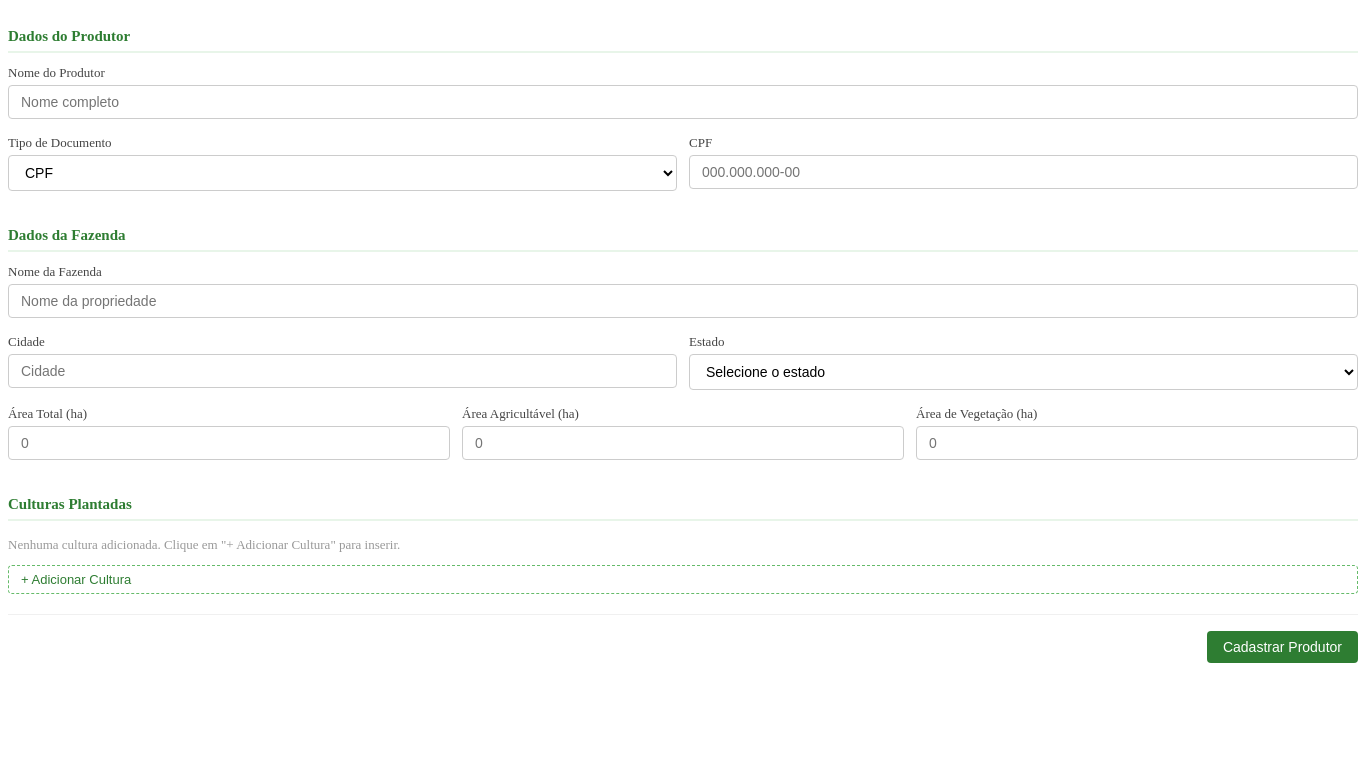
Test: ProducerForm — novo formulário unificado › Validações da fazenda › exibe erros quando campos da fazenda estão vazios
Type "João" into the field labelled "Nome do Produtor".
click(683, 102); type("João")  # box [8,85,1358,119]
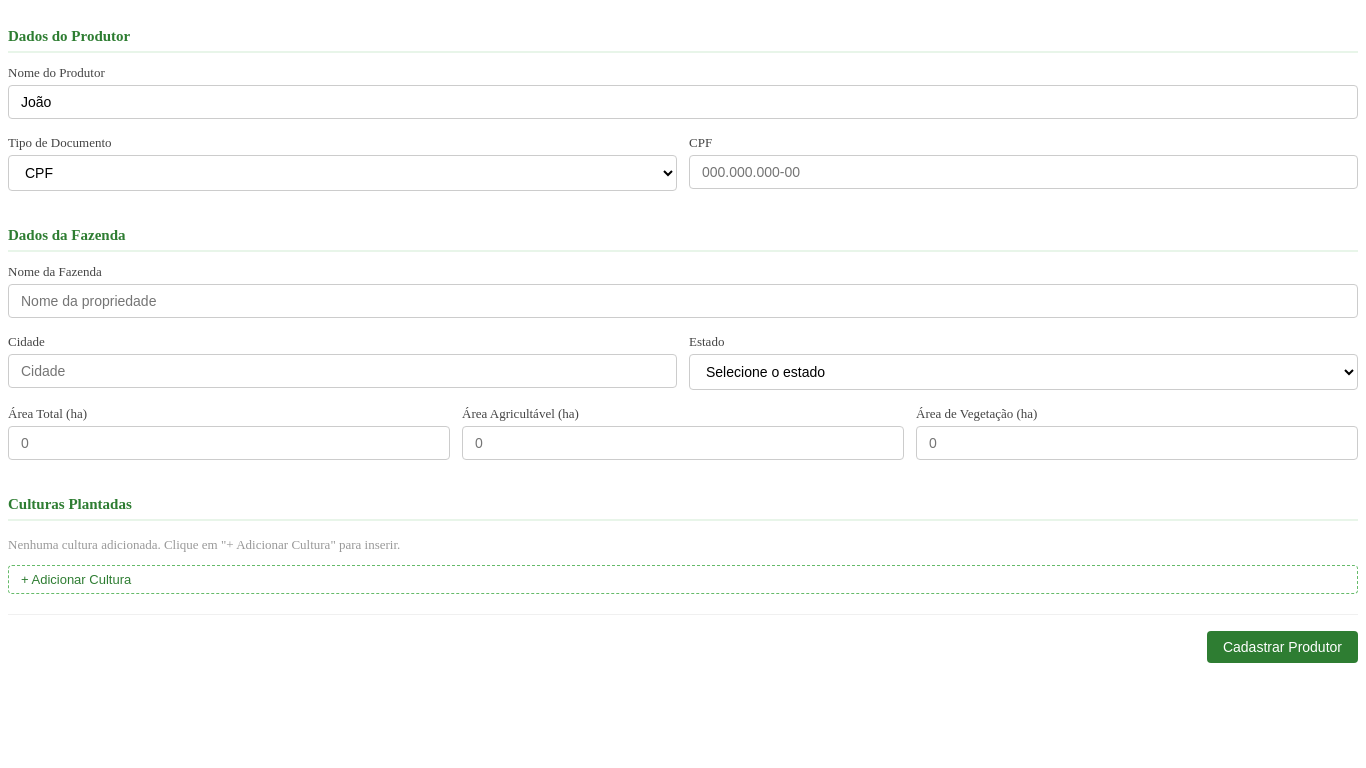
Type "529.982.247-25" into the field labelled "CPF".
click(1024, 172); type("529.982.247-25")  # box [689,155,1358,189]
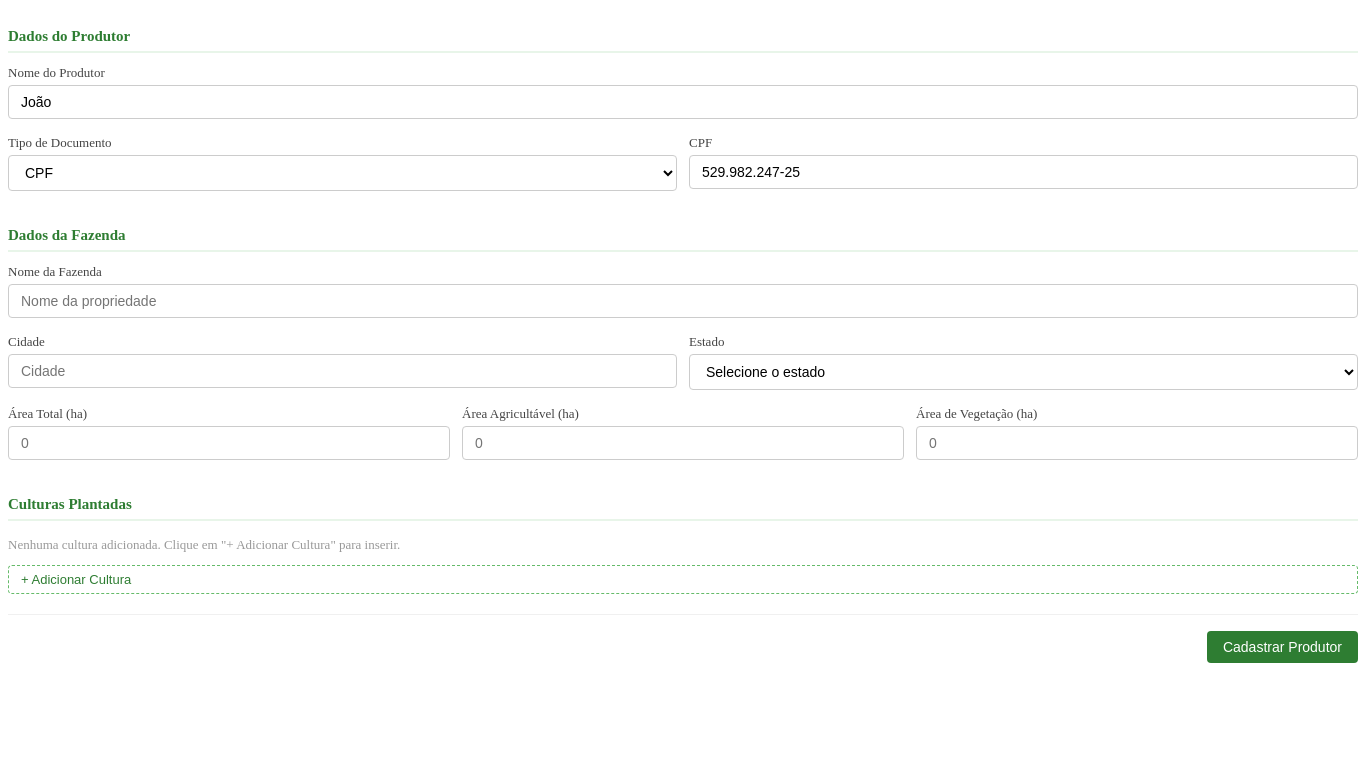
Click the button "Cadastrar Produtor".
click(1282, 647)  # box [1207,631,1358,663]
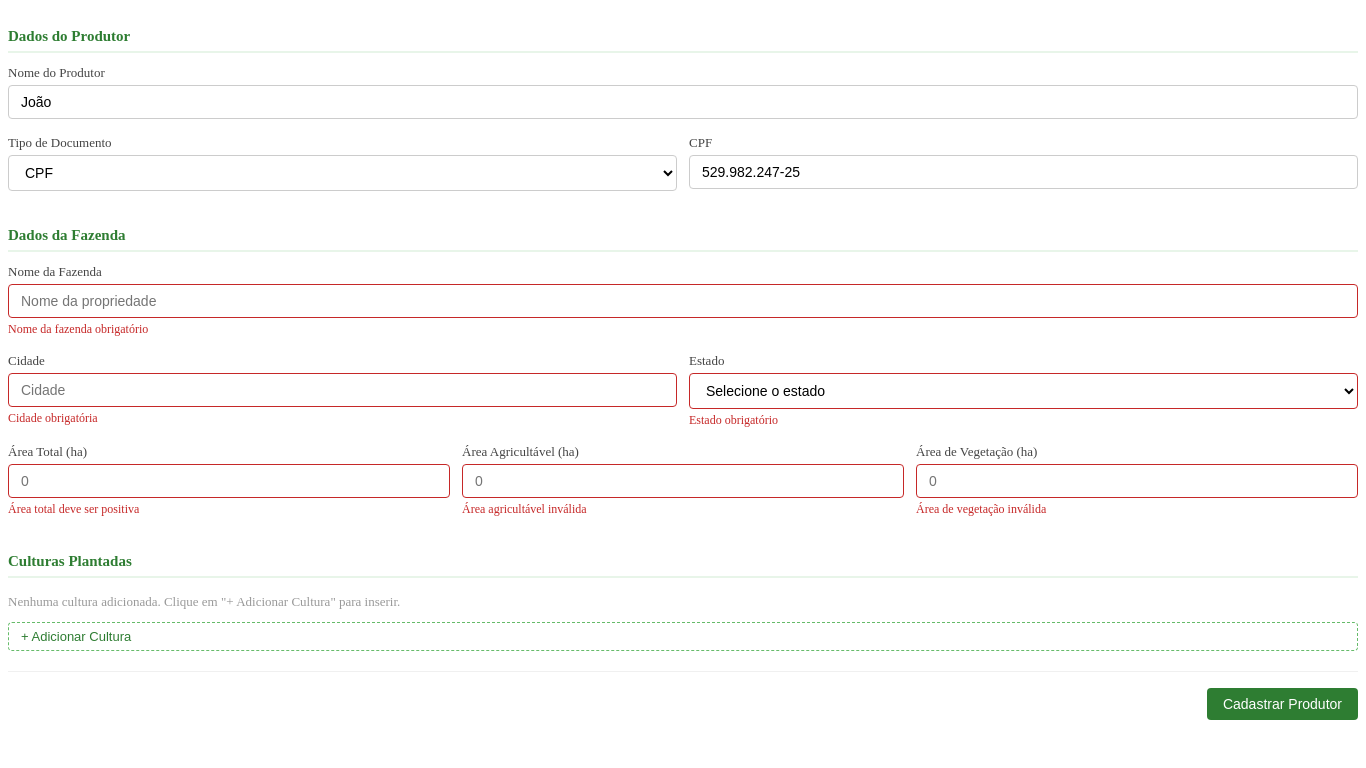
Expected: the text "Nome da fazenda obrigatório" is shown, [8,322,148,336]
Expected: the text "Cidade obrigatória" is shown, [8,411,98,425]
Expected: the text "Estado obrigatório" is shown, [689,413,778,427]
